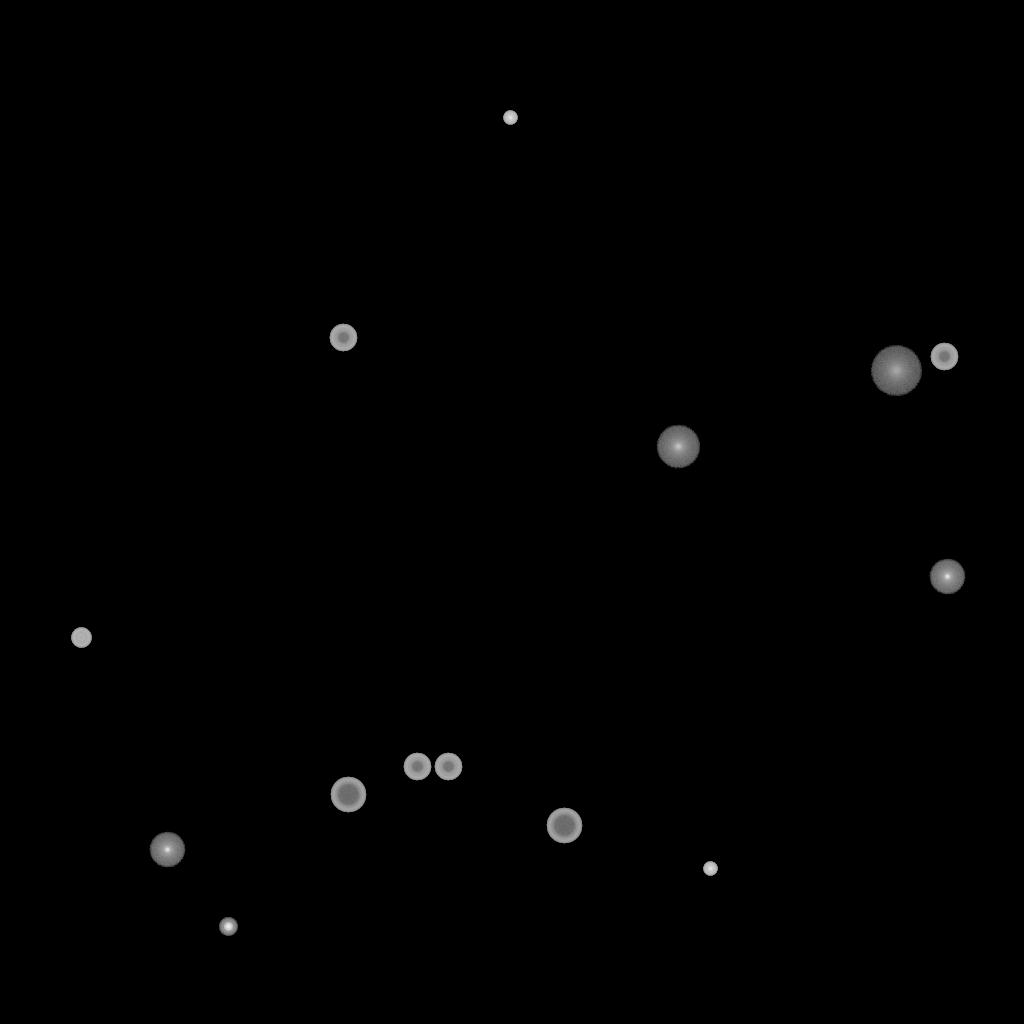depth:-20: (219, 918, 237, 936)
depth:-30: (703, 862, 717, 876), (503, 111, 517, 125)
depth:-40: (71, 628, 91, 648)
depth:-50: (329, 324, 357, 352), (434, 753, 462, 781), (403, 753, 431, 781), (930, 343, 958, 371)
depth:-60: (330, 777, 366, 813), (546, 808, 582, 844)
depth:0: (149, 832, 185, 868), (929, 559, 965, 595)
depth:10: (656, 425, 700, 469)
depth:20: (870, 346, 922, 396)
